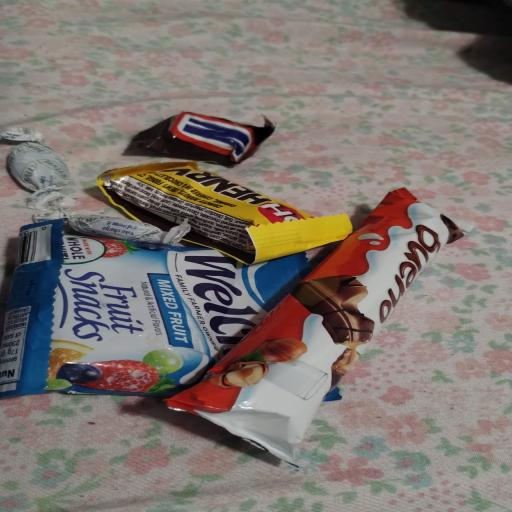chocolate: (167, 189, 462, 462), (0, 220, 309, 396), (98, 163, 351, 263), (130, 112, 274, 166), (68, 215, 190, 245), (8, 142, 69, 191)
